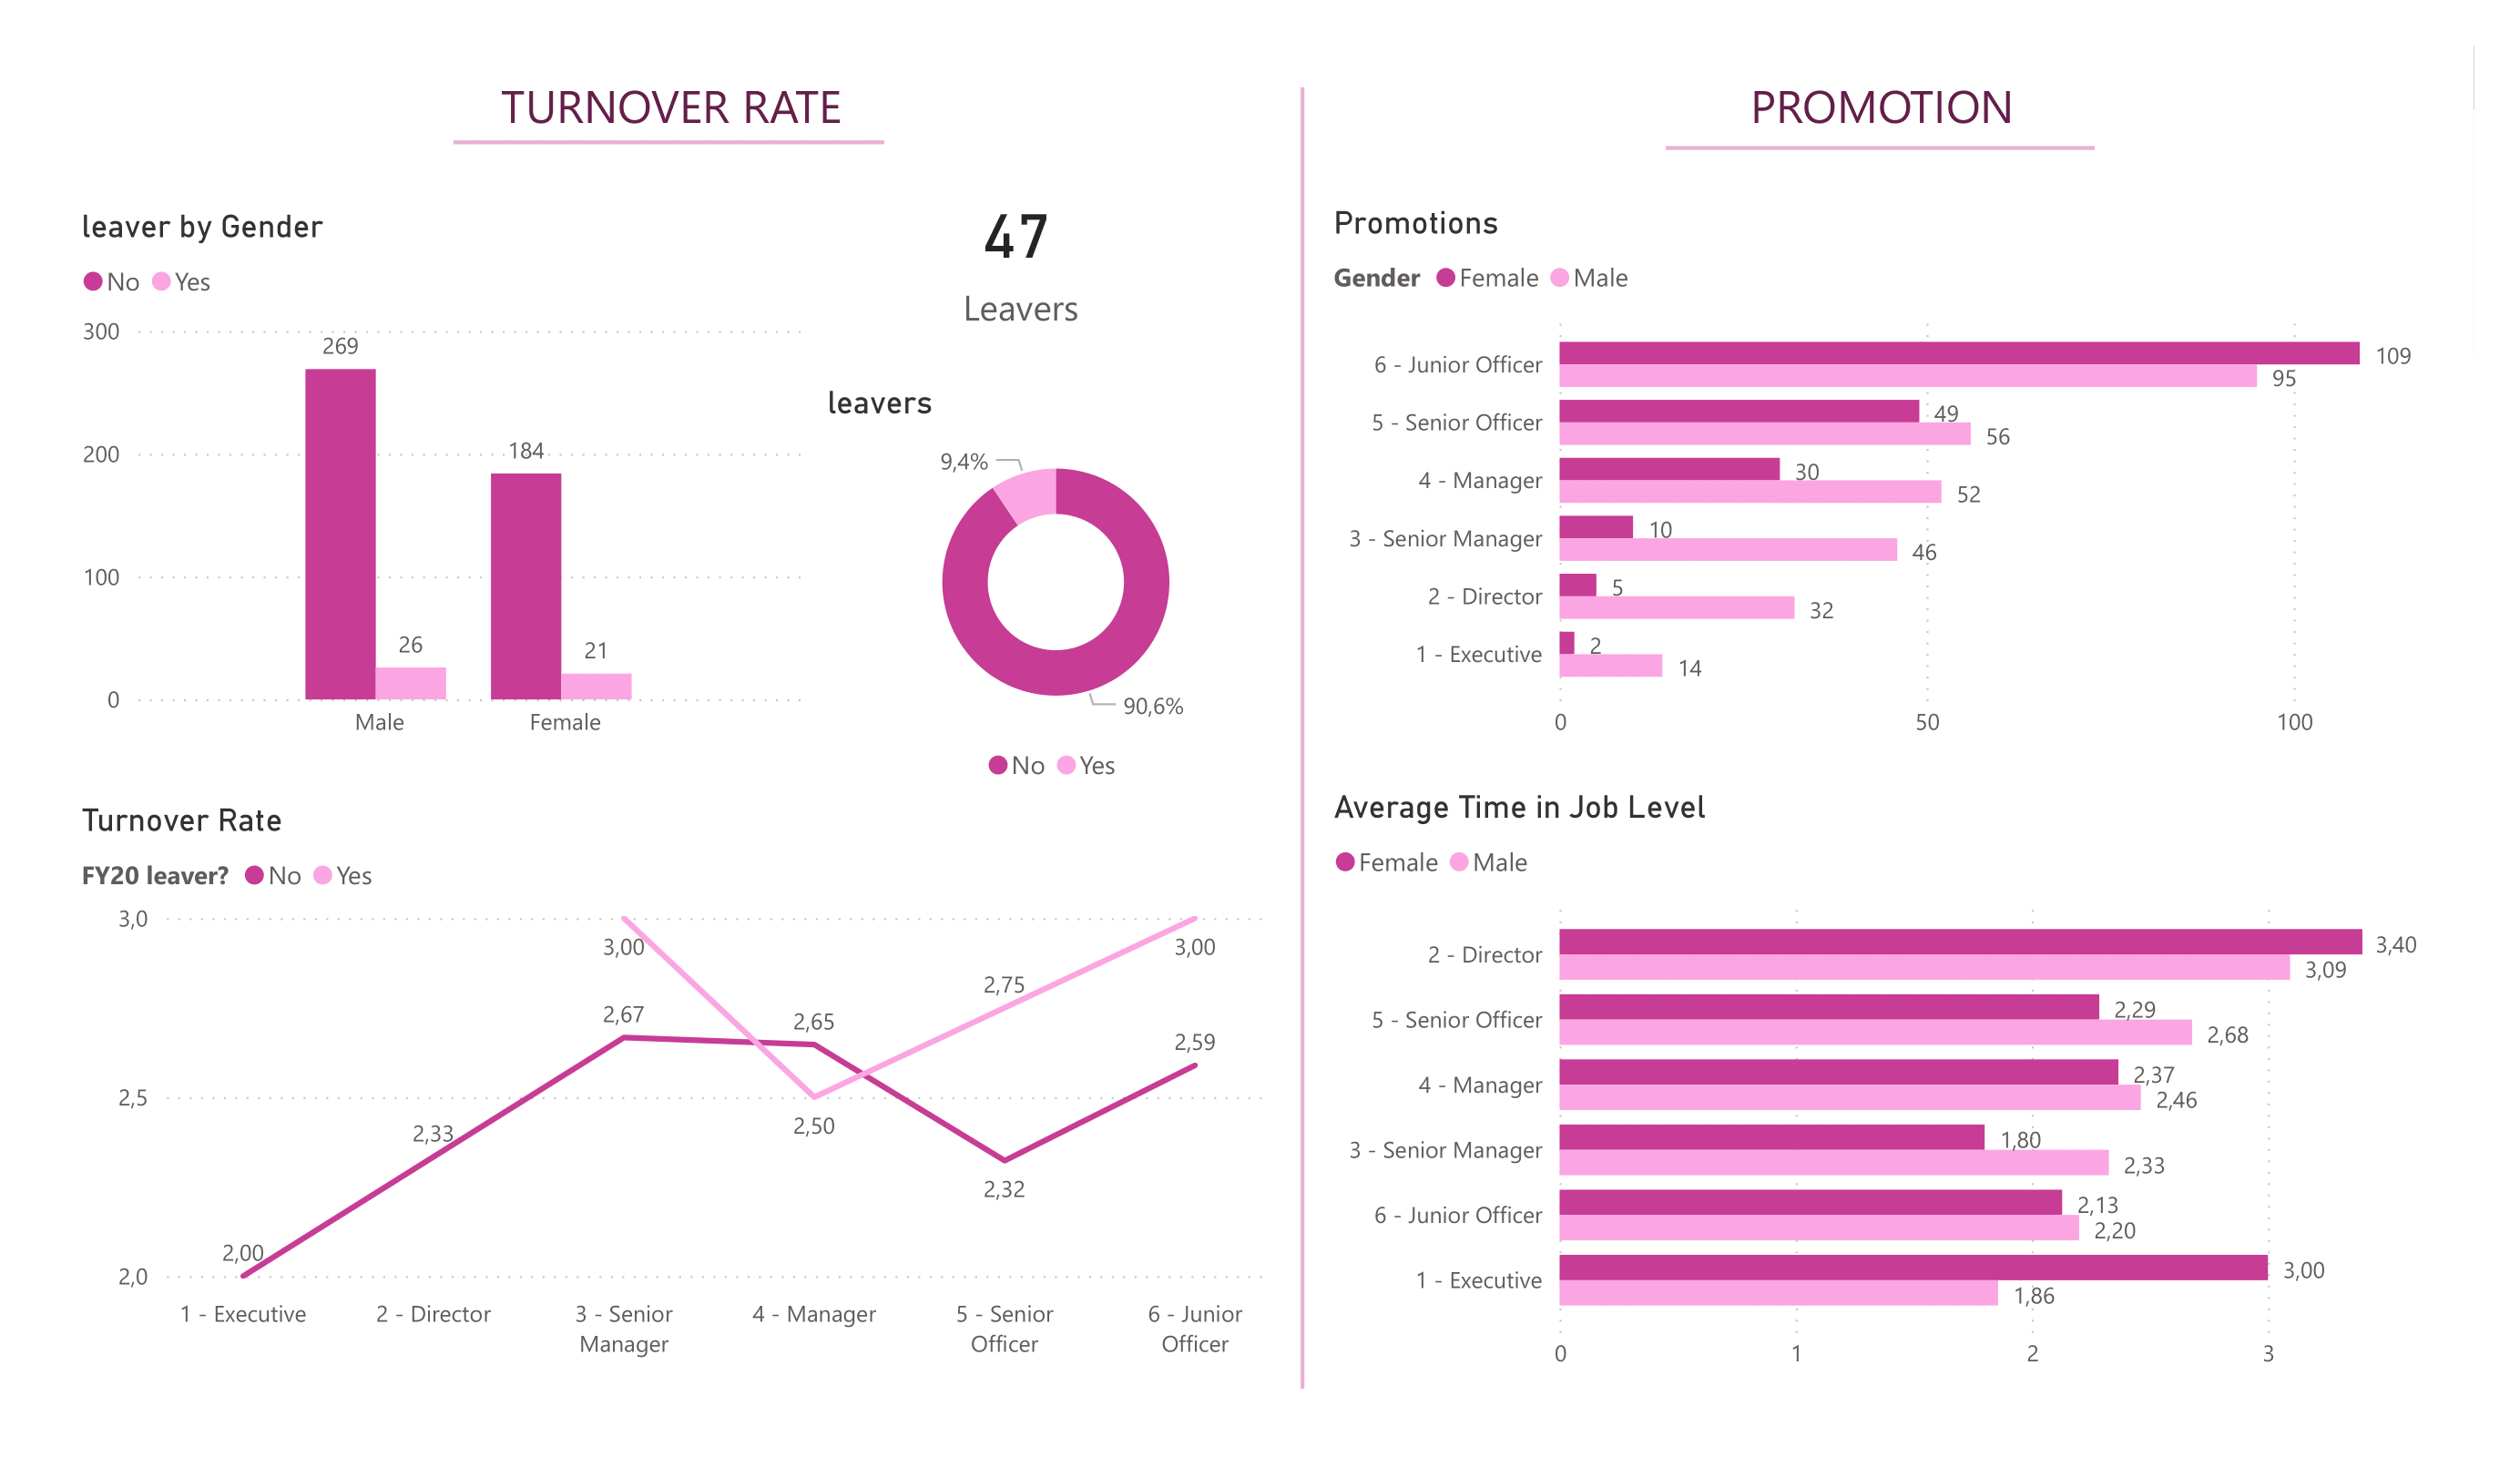

This screenshot's page, from the dashboard's own definition file:
{"tool":"powerbi","page":{"name":"Page 2","canvas":[1280,720],"ordinal":1},"visuals":[{"type":"clusteredColumnChart","title":" leaver by Gender ","fields":{"Category":["Pharma Group AG.Gender"],"Y":["CountNonNull(Pharma Group AG.FY20 leaver?)"],"Series":["Pharma Group AG.FY20 leaver?"]},"box":[13.8,84.6,392.3,290.8],"z":0},{"type":"donutChart","title":" leavers","fields":{"Category":["Pharma Group AG.FY20 leaver?"],"Y":["CountNonNull(Pharma Group AG.FY20 leaver?)"]},"box":[406.7,178.3,251.7,220],"z":1000},{"type":"lineChart","title":"Turnover Rate ","fields":{"Category":["Pharma Group AG.Job Level after FY20 promotions"],"Y":["Avg(Pharma Group AG.FY19 Performance Rating)"],"Series":["Pharma Group AG.FY20 leaver?"]},"box":[13.8,398.5,644.6,301.5],"z":2000},{"type":"card","fields":{"Values":["CountNonNull(Pharma Group AG.Leaver FY)"]},"box":[448.3,68.3,126.7,85],"z":3000},{"type":"textbox","box":[211.7,10.1,236.2,46.1],"z":4000},{"type":"clusteredBarChart","title":"Promotions","fields":{"Y":["CountNonNull(Pharma Group AG.Job Level group for PRA)"],"Series":["Pharma Group AG.Gender"],"Category":["Pharma Group AG.Job Level after FY20 promotions"]},"box":[673.8,83.1,589.2,292.3],"z":5000},{"type":"clusteredBarChart","title":"Average Time in Job Level ","fields":{"Y":["Avg(Pharma Group AG.Time in Job Level @01.07.2020)"],"Category":["Pharma Group AG.Job Level after FY20 promotions"],"Series":["Pharma Group AG.Gender"]},"box":[673.8,390.8,589.2,316.9],"z":6000},{"type":"textbox","box":[849.6,10.1,236.2,69.1],"z":7000},{"type":"shape","box":[511.2,21.6,302.4,686.9],"z":8000},{"type":"shape","box":[853.8,24.6,226.2,58.5],"z":9000},{"type":"shape","box":[215.4,21.5,226.2,58.5],"z":10000}]}

Visuals, with their boxes on the page's 1280x720 design canvas (x1, y1, x2, y2). These are canvas units, not pixel positions in the 2520x1457 screenshot, which may show the page scaled, cropped or inside an application window:
" leaver by Gender " clusteredColumnChart: crop(14, 85, 406, 375)
" leavers" donutChart: crop(407, 178, 658, 398)
"Turnover Rate " lineChart: crop(14, 398, 658, 700)
card - CountNonNull(Pharma Group AG.Leaver FY): crop(448, 68, 575, 153)
textbox: crop(212, 10, 448, 56)
"Promotions" clusteredBarChart: crop(674, 83, 1263, 375)
"Average Time in Job Level " clusteredBarChart: crop(674, 391, 1263, 708)
textbox: crop(850, 10, 1086, 79)
shape: crop(511, 22, 814, 708)
shape: crop(854, 25, 1080, 83)
shape: crop(215, 22, 442, 80)
